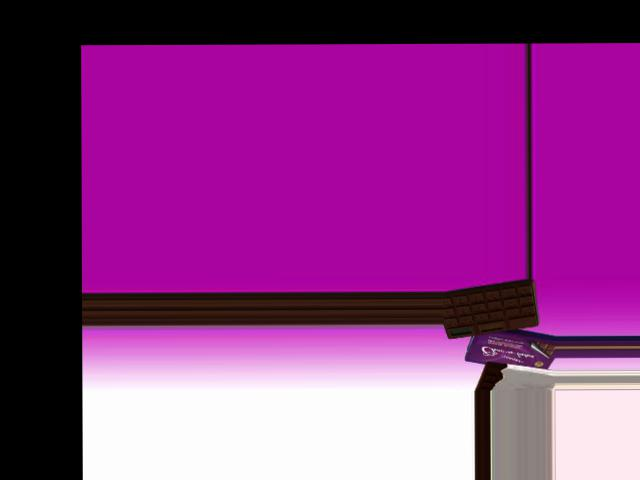chocolate: (446, 278, 537, 340)
